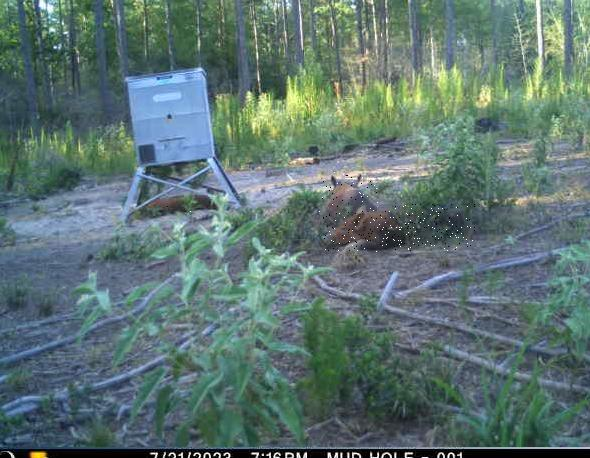Hog: (320, 204, 476, 252), (321, 172, 379, 219), (143, 194, 222, 213)
